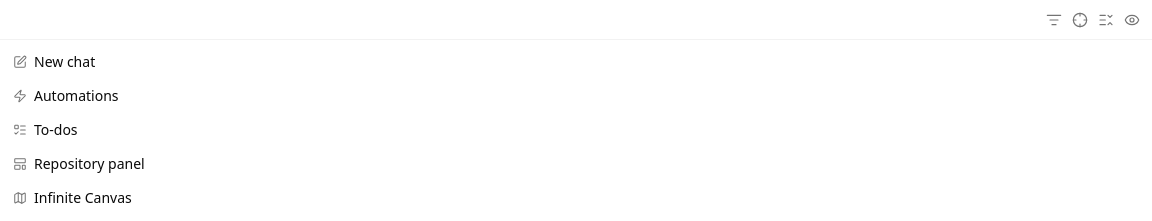
Sidebar — Expand / collapse all groups › drives the list from the header in one click, and flips direction
This screenshot has width=1152, height=221.
// One click, from the header — it used to cost a trip through the menu.
Click the button named "Collapse All Groups".
click(1106, 20)  # box [1094, 8, 1118, 32]
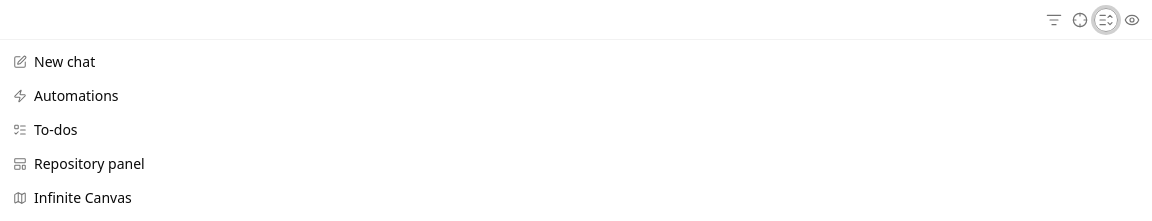
// The button now offers the opposite action, and performs it.
Click the button named "Expand All Groups".
click(1106, 20)  # box [1094, 8, 1118, 32]
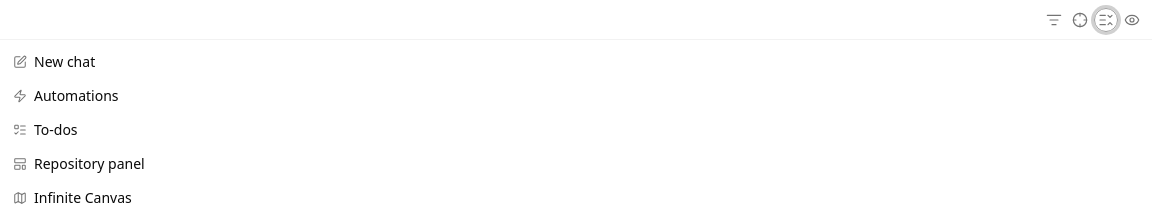
Now the button named "Collapse All Groups" is shown, box [1094, 8, 1118, 32]
